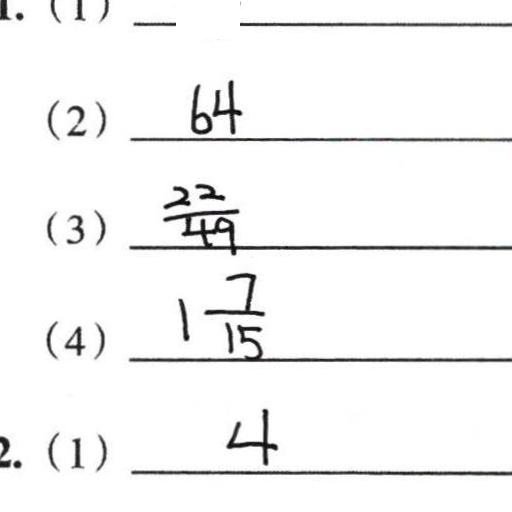ans: (174, 267, 269, 361), (164, 181, 240, 256), (183, 74, 242, 136), (220, 404, 279, 466)
